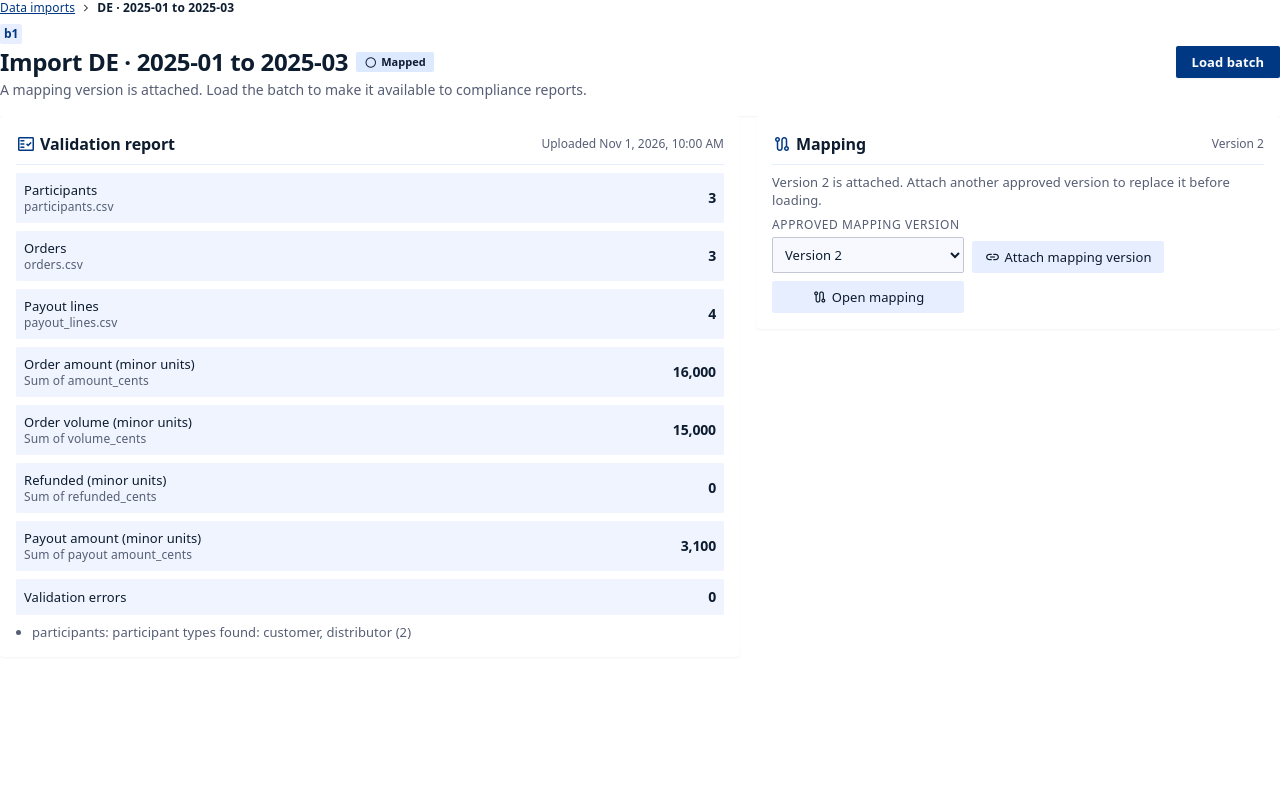
Test: BatchDetail › loads a mapped batch after confirmation and reports superseded batches
Click the button "Load batch": (1228, 62) [1176,46,1279,78]
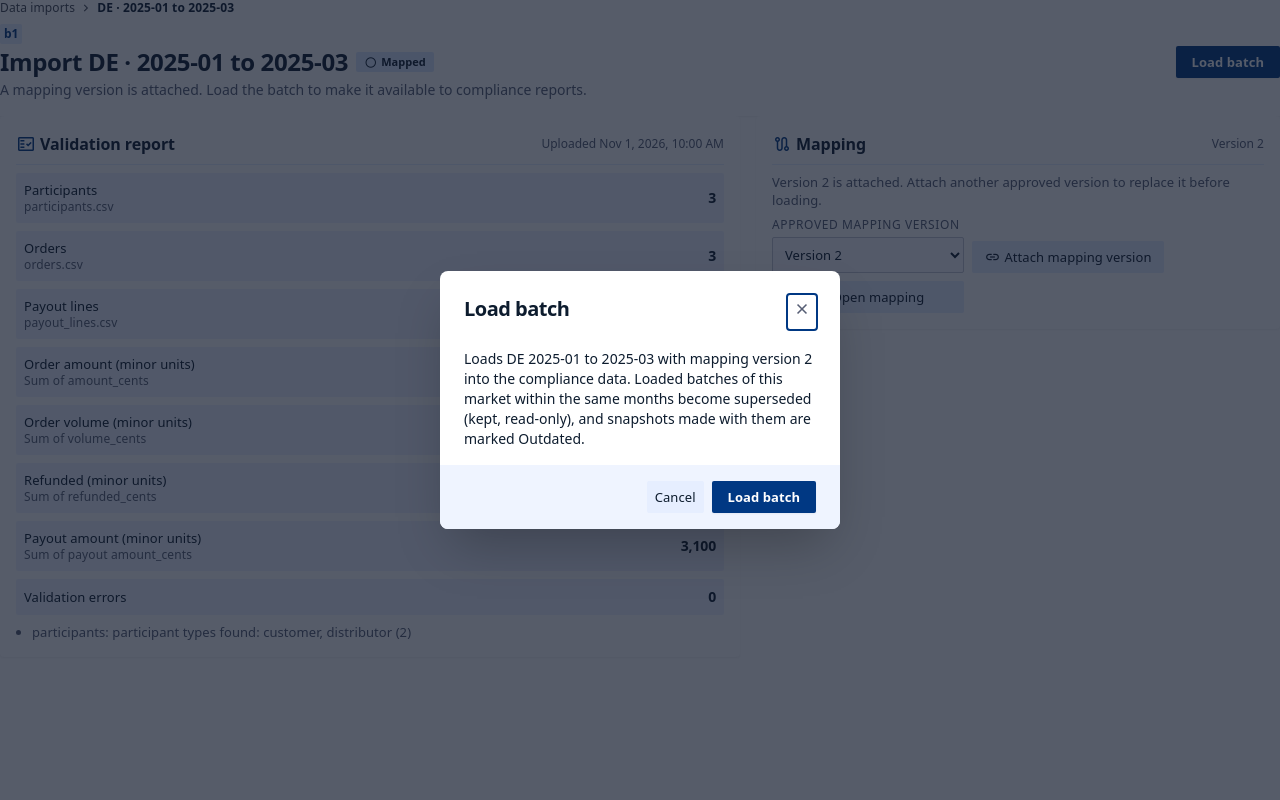
Expected: the dialog "Load batch" shows "mapping version 2", [464,349,812,448]
Click the button "Load batch": (764, 497) [712,481,816,513]
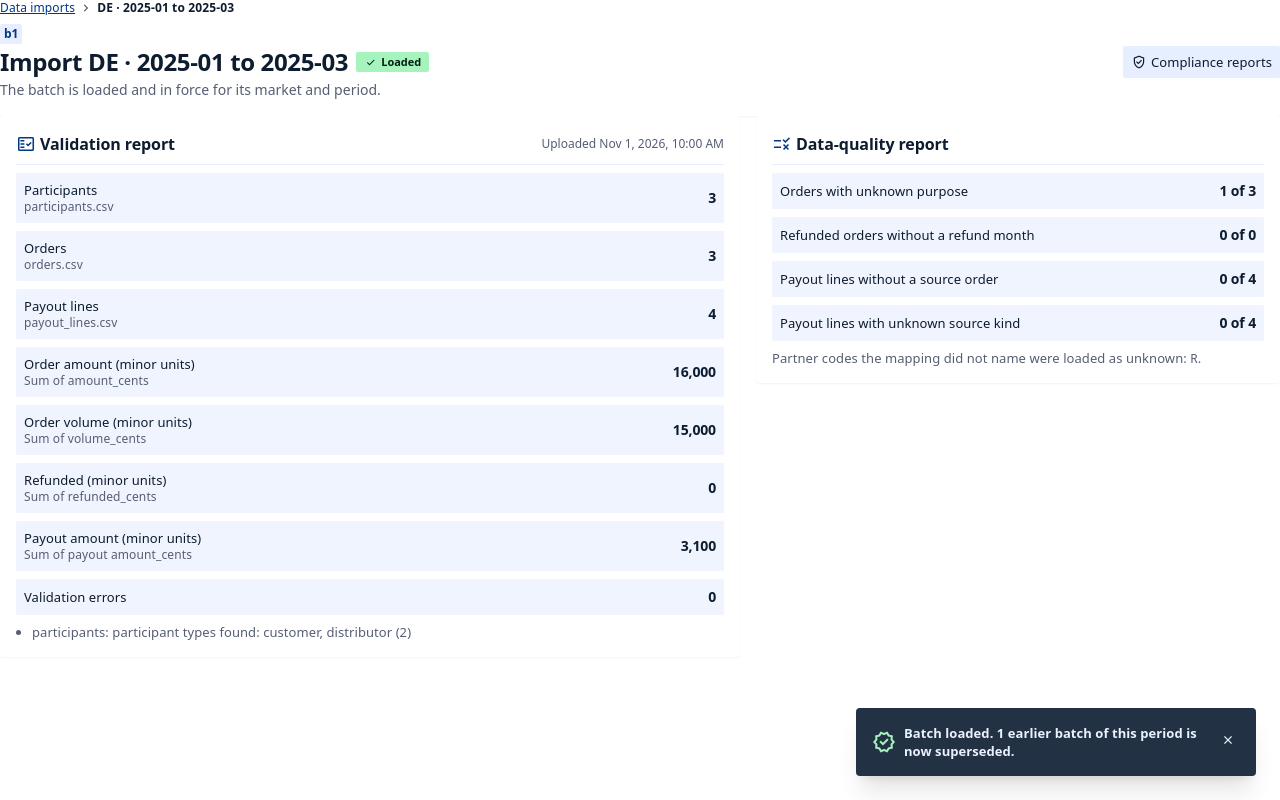
Expected: the text "Batch loaded. 1 earlier batch of this period is now superseded." is shown, [904,724,1208,760]
Expected: the heading "Data-quality report" is shown, [796,132,949,156]
Expected: the text "1 of 3" is shown, [1220,181,1256,201]
